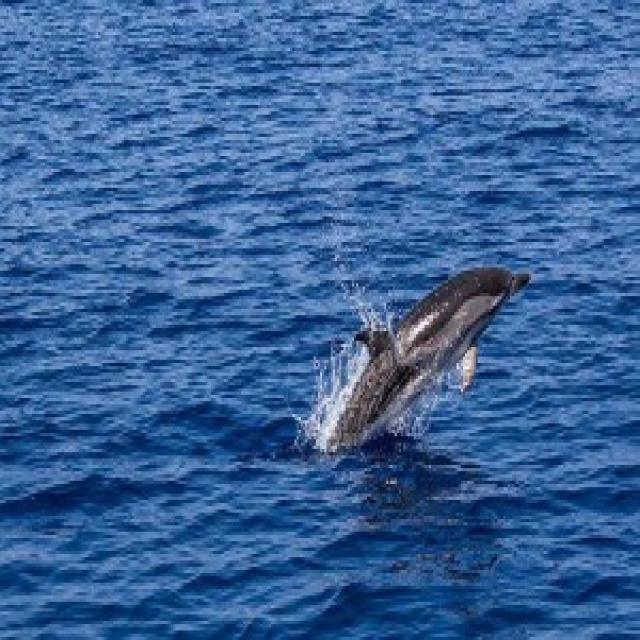Dolphin: (308, 257, 537, 469)
